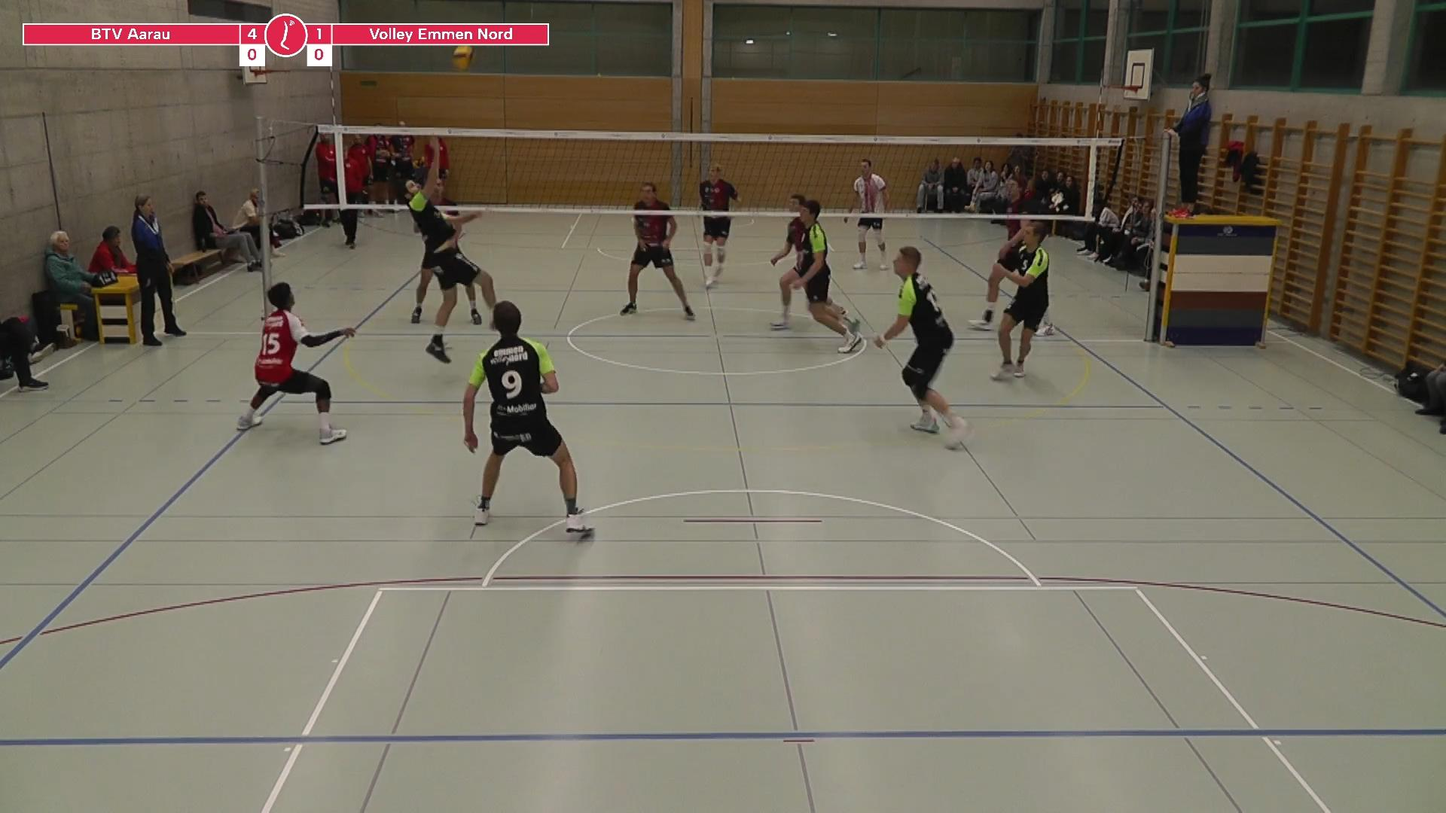Dig: (389, 128, 509, 368)
Player: (463, 302, 590, 535), (237, 283, 355, 444), (875, 246, 968, 449), (780, 200, 863, 352), (621, 182, 695, 320), (991, 221, 1049, 380), (969, 220, 1030, 330), (770, 193, 807, 329), (850, 159, 889, 269), (411, 248, 438, 324), (703, 216, 731, 288)
ball: (447, 39, 474, 70)
